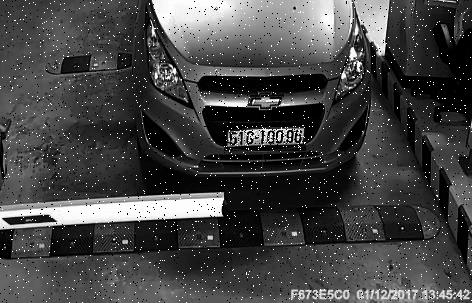License-plate: (225, 126, 307, 152)
